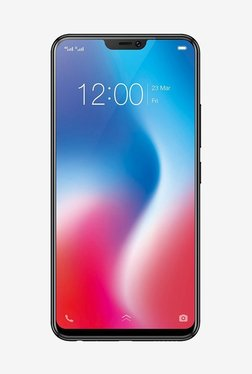mobile: (38, 31, 216, 358)
